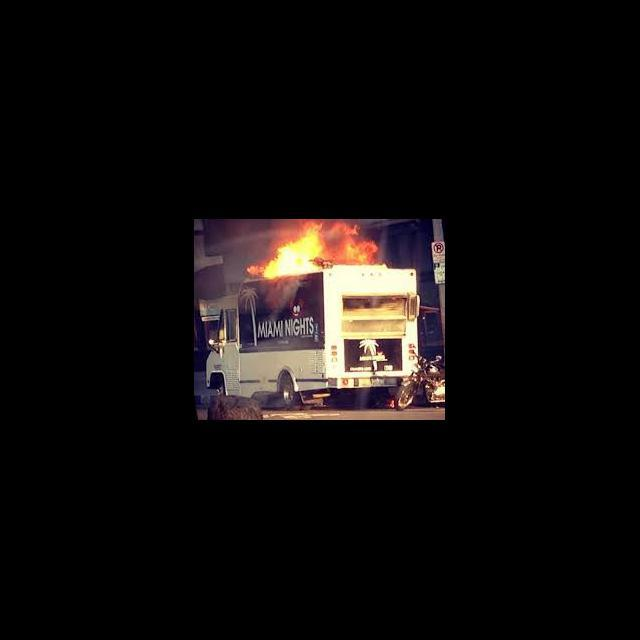Fire: (244, 220, 380, 282)
